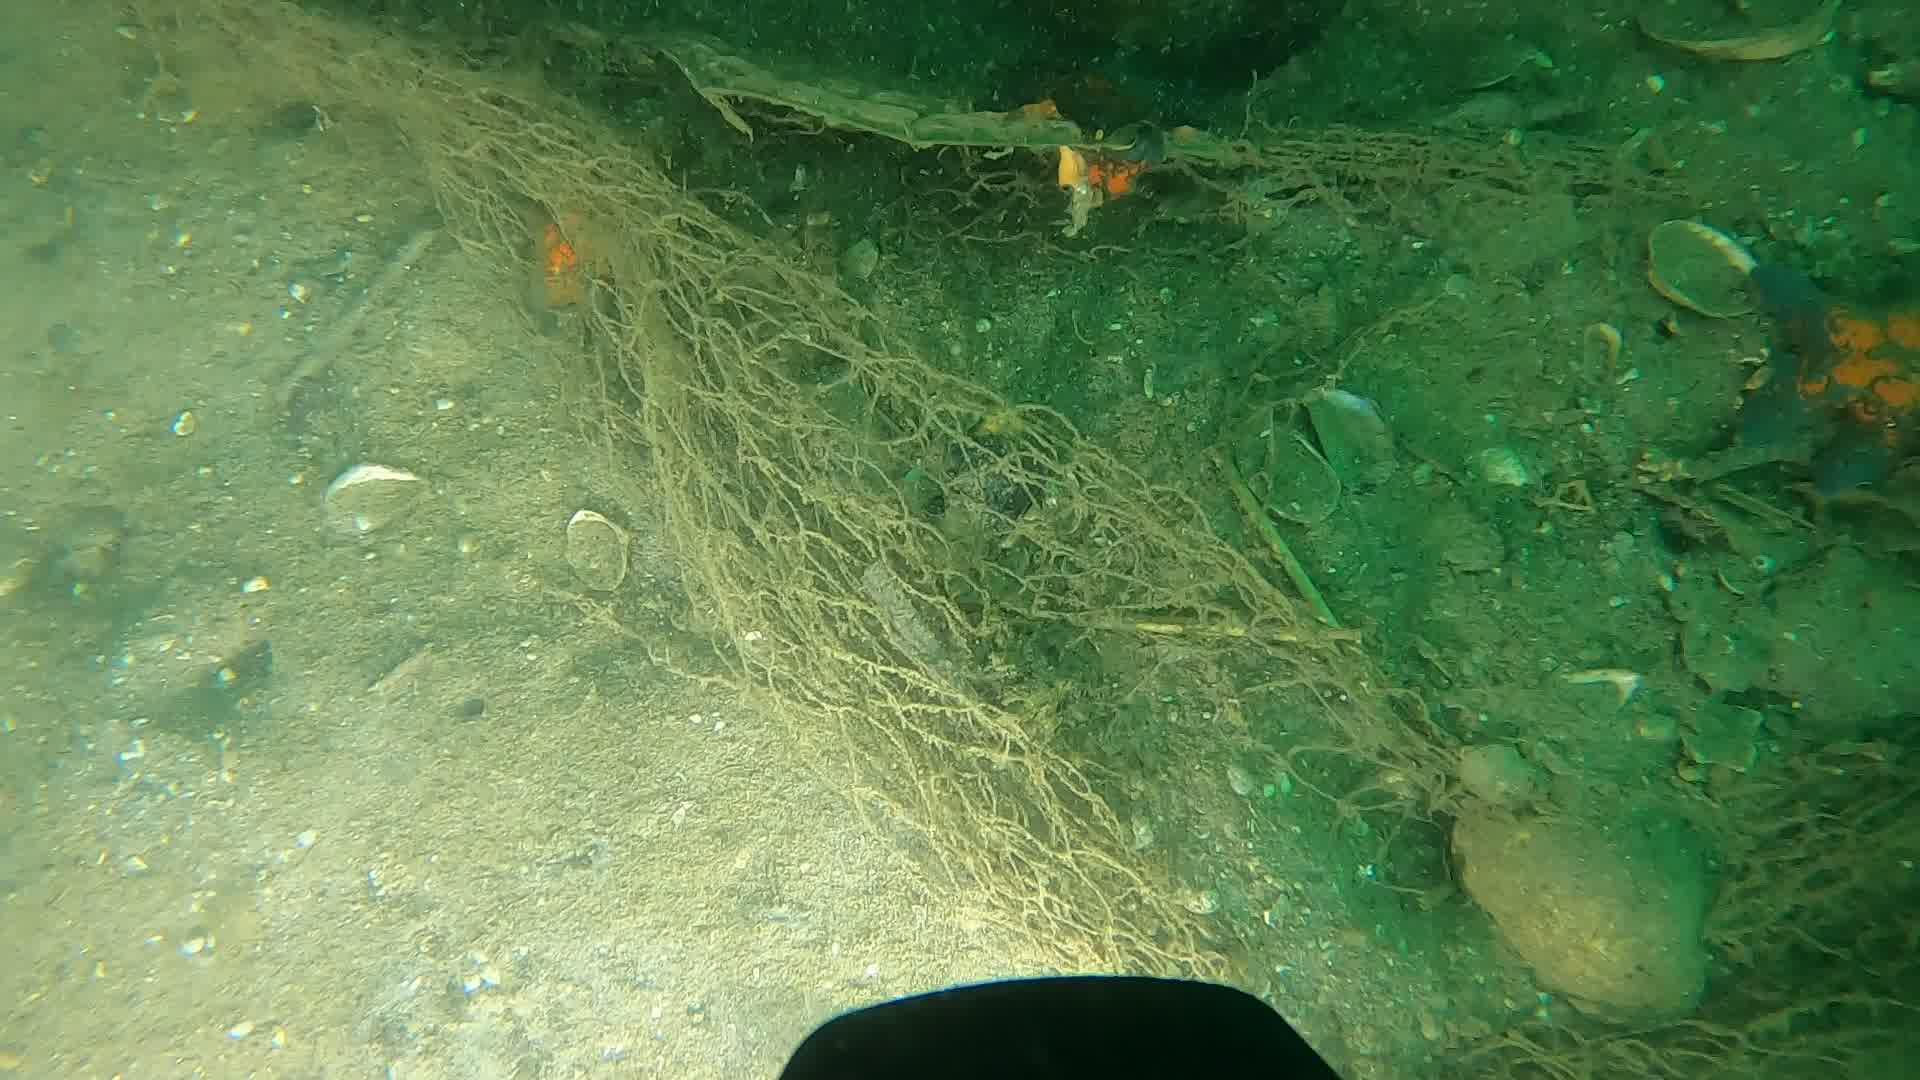fish net: (422, 84, 1455, 989), (1411, 737, 1920, 1080)
